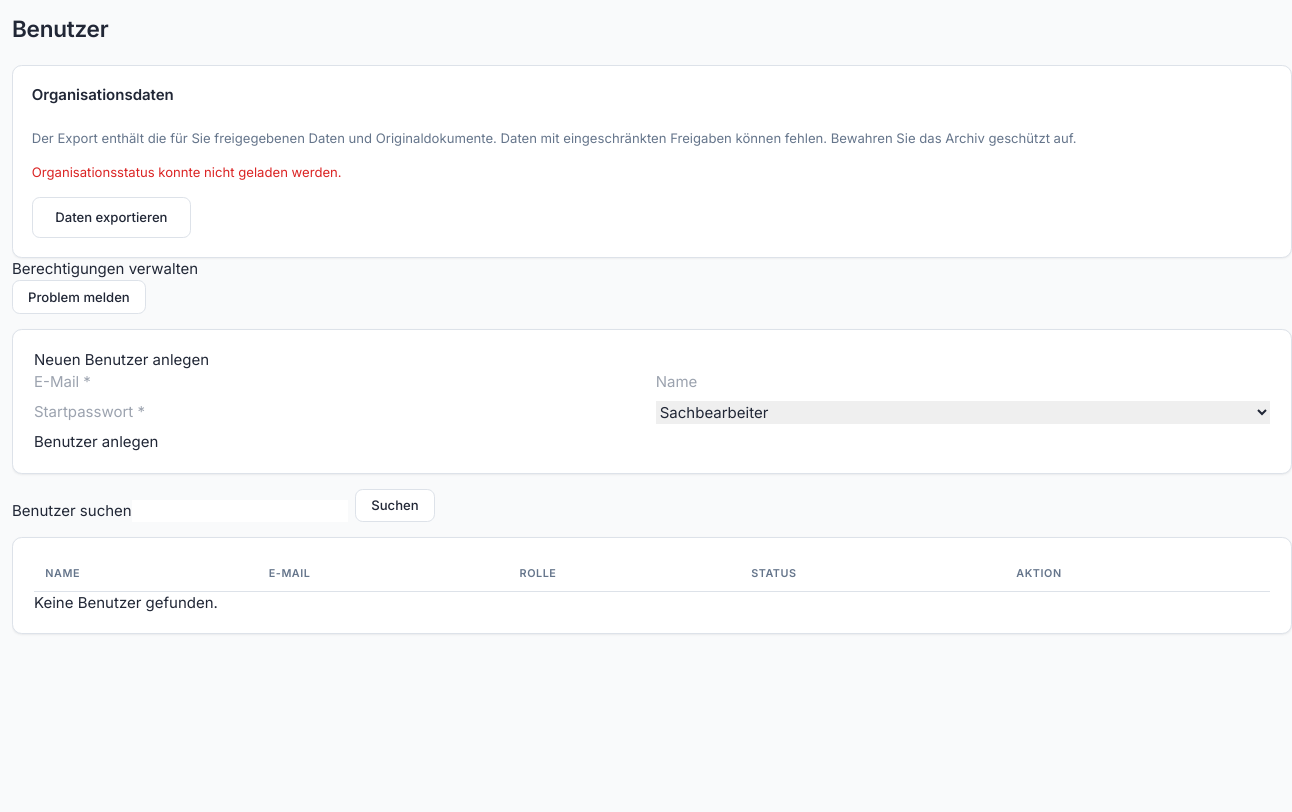
it: UsersPage error boundaries › shows the real client error without an object or exception prefix: Netzwerk nicht erreichbar.
The width and height of the screenshot is (1292, 812).
Type "synthetic@example.de" into the field with placeholder "E-Mail *".
click(341, 383); type("synthetic@example.de")  # box [34,371,648,394]
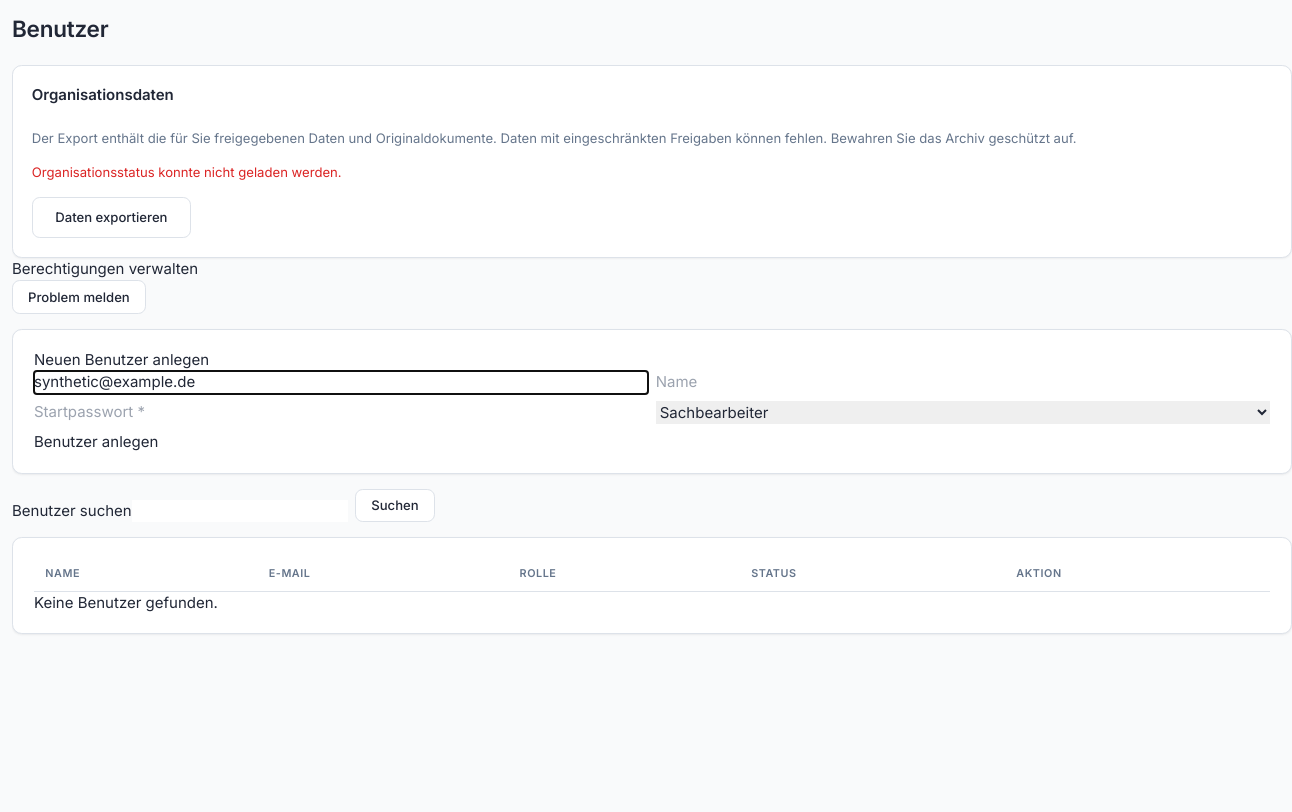
Type "SyntheticPassword123!" into the password field with placeholder "Startpasswort *".
click(341, 413); type("SyntheticPassword123!")  # box [34,401,648,424]
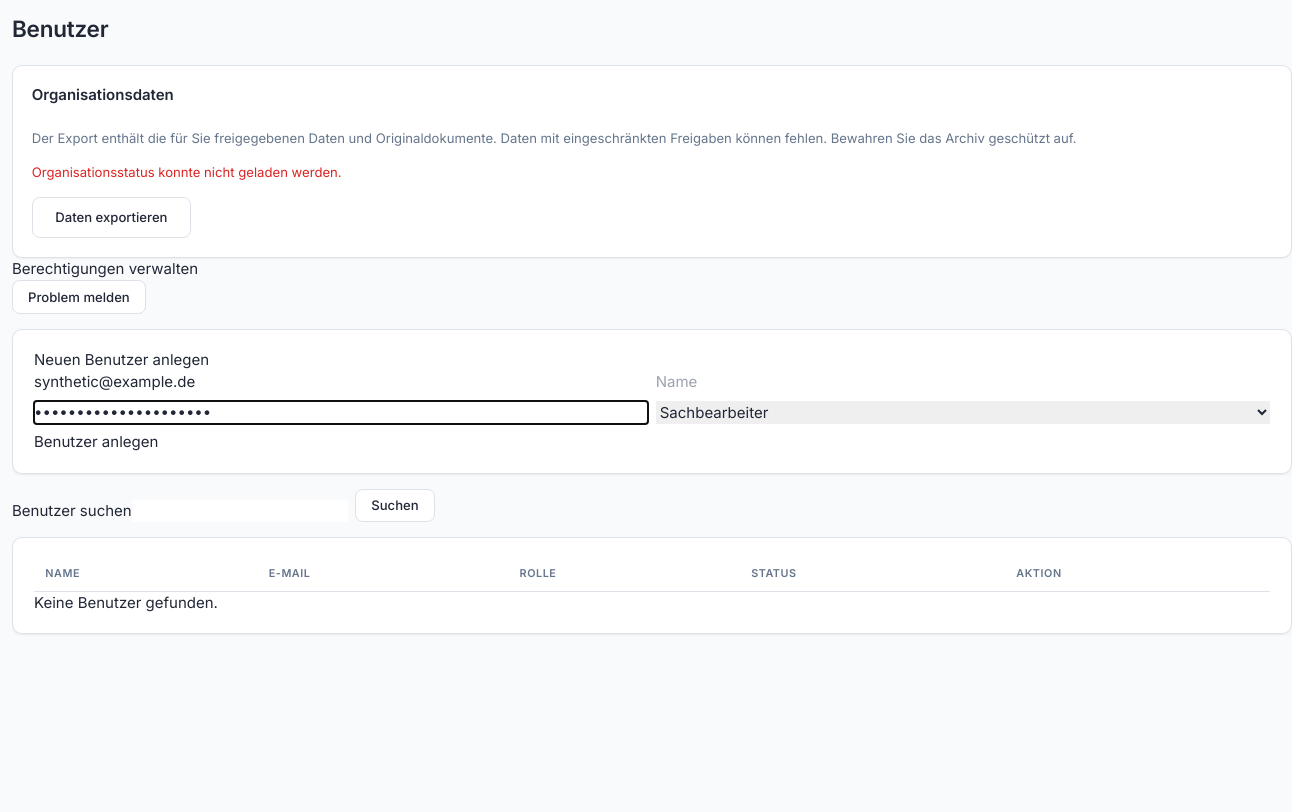
Click the button "Benutzer anlegen".
click(96, 443)  # box [34,431,158,454]
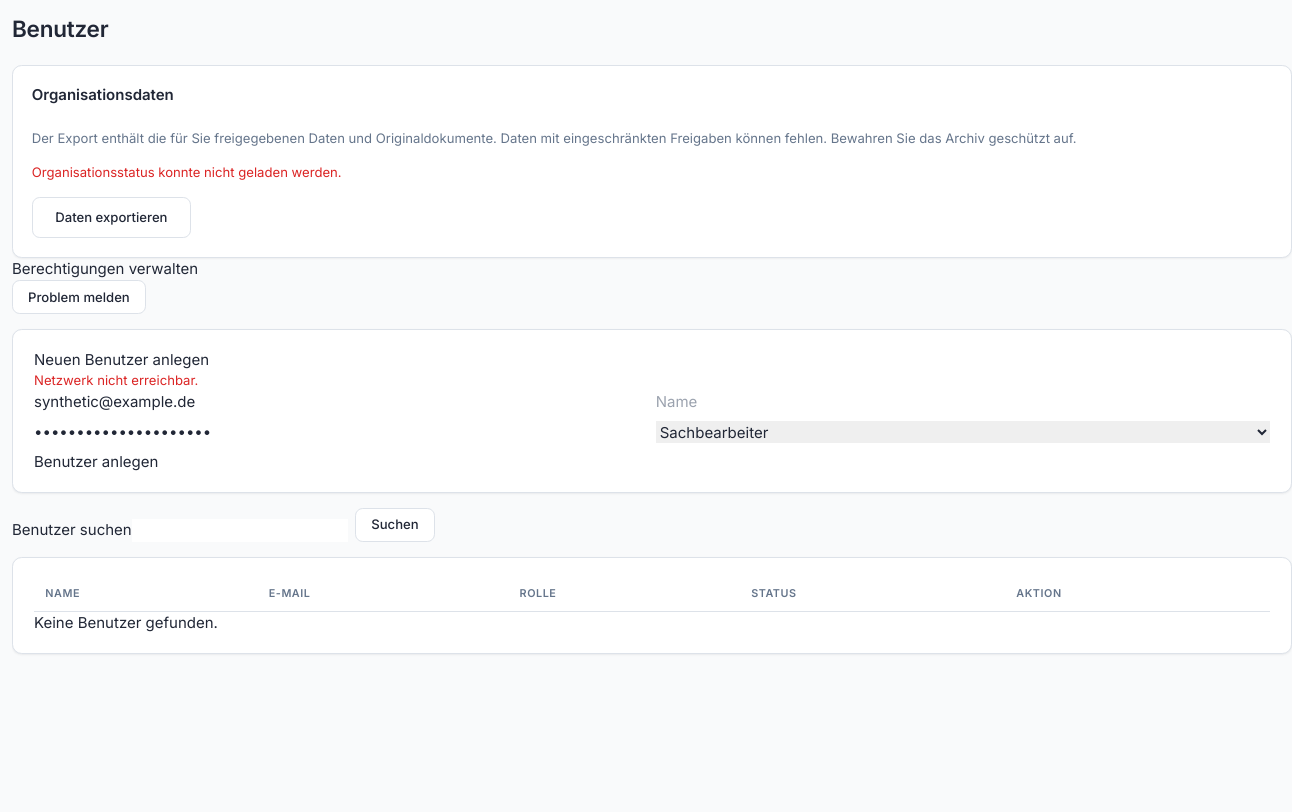
expect the button "Benutzer anlegen" is enabled: met, box [34,451,158,473]
expect the text "Netzwerk nicht erreichbar." is shown: met, box [34,372,198,388]
